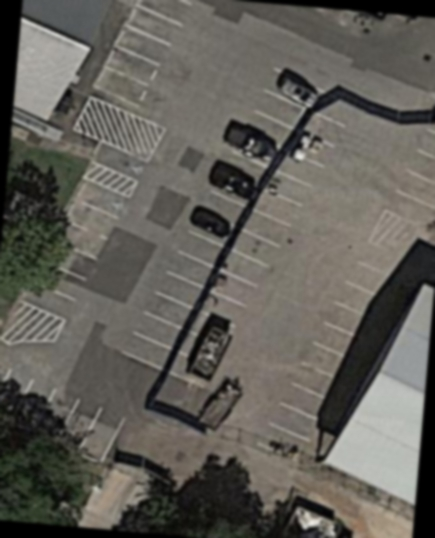parkingspot: (117, 66, 351, 375), (253, 256, 408, 466), (197, 151, 330, 331), (18, 177, 134, 324), (0, 365, 130, 466), (89, 0, 198, 114), (382, 126, 435, 232), (89, 140, 153, 185)
